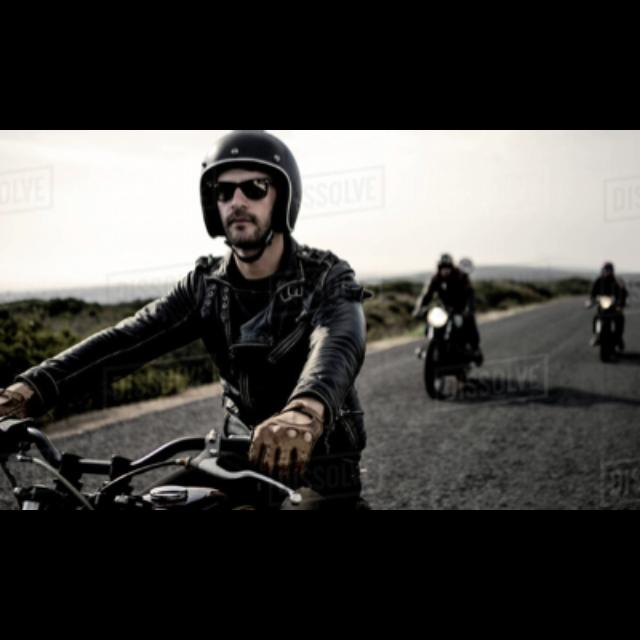With Helmet: (189, 132, 317, 260)
